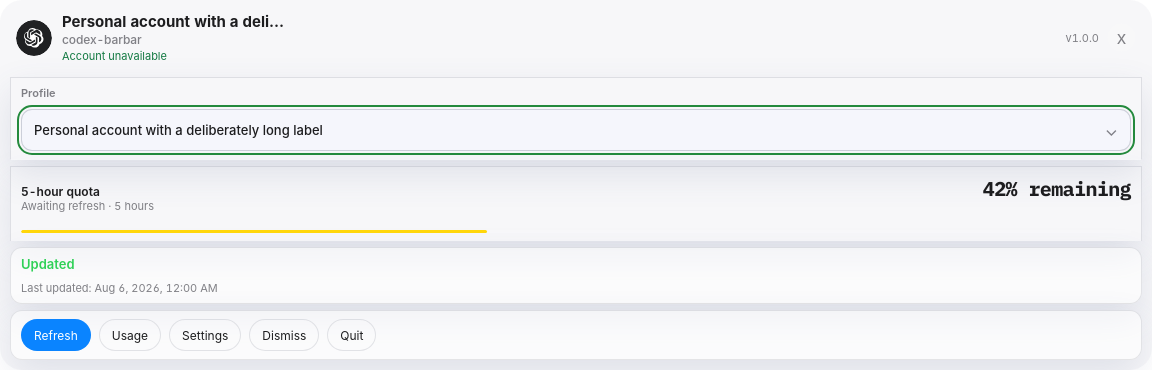
Scenario: TrayPanel › renders a long account label without exposing an email
Click the button with aria-label "profile". click: (178, 130)
box: x1=21 y1=109 x2=1131 y2=151
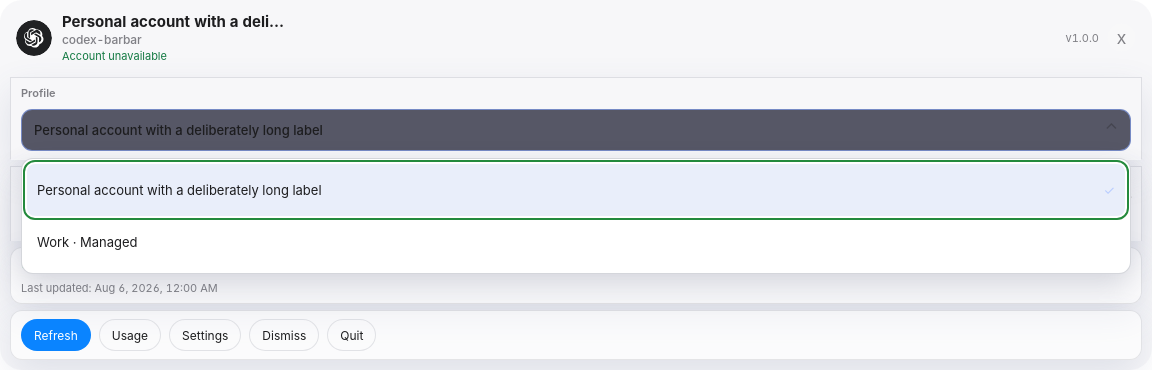
Now the option "Personal account with a deliberately long label" is shown, box x1=27 y1=164 x2=1125 y2=216
